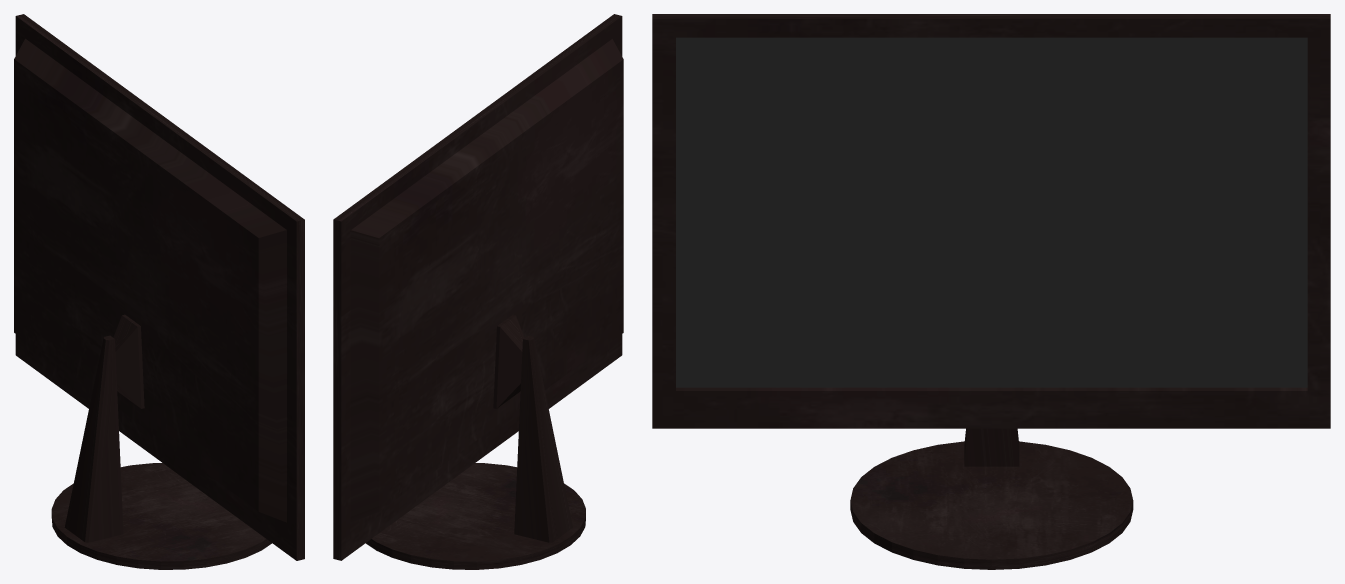
Rendered from Bildschirm.fbx.
The picture shows the model from 3 angles, left to right: view 1: azimuth 30°, elevation 25°; view 2: azimuth 150°, elevation 25°; view 3: azimuth 270°, elevation 25°; orthographic projection. The views are drawn at different scales.
Parts seen in each view (by area): view 1: Screen, Cylinder; view 2: Screen, Cylinder; view 3: Screen, Cylinder.
Boxes of the visible parts, bbox=[...] form: Screen: bbox=[14, 14, 304, 560]; Cylinder: bbox=[51, 314, 271, 569]; Screen: bbox=[333, 14, 623, 560]; Cylinder: bbox=[366, 315, 585, 569]; Screen: bbox=[652, 14, 1330, 428]; Cylinder: bbox=[850, 428, 1133, 569].
Bounding box in the file's own units: 5 × 9.54 × 12.
